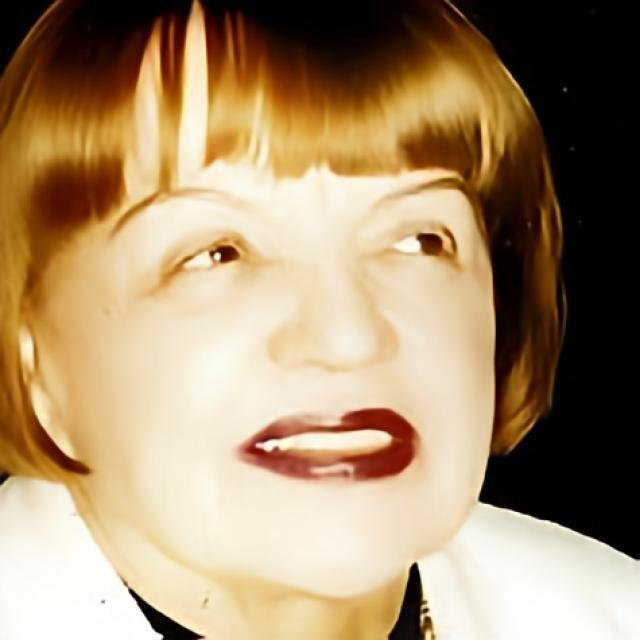disgust: (40, 0, 495, 600)
